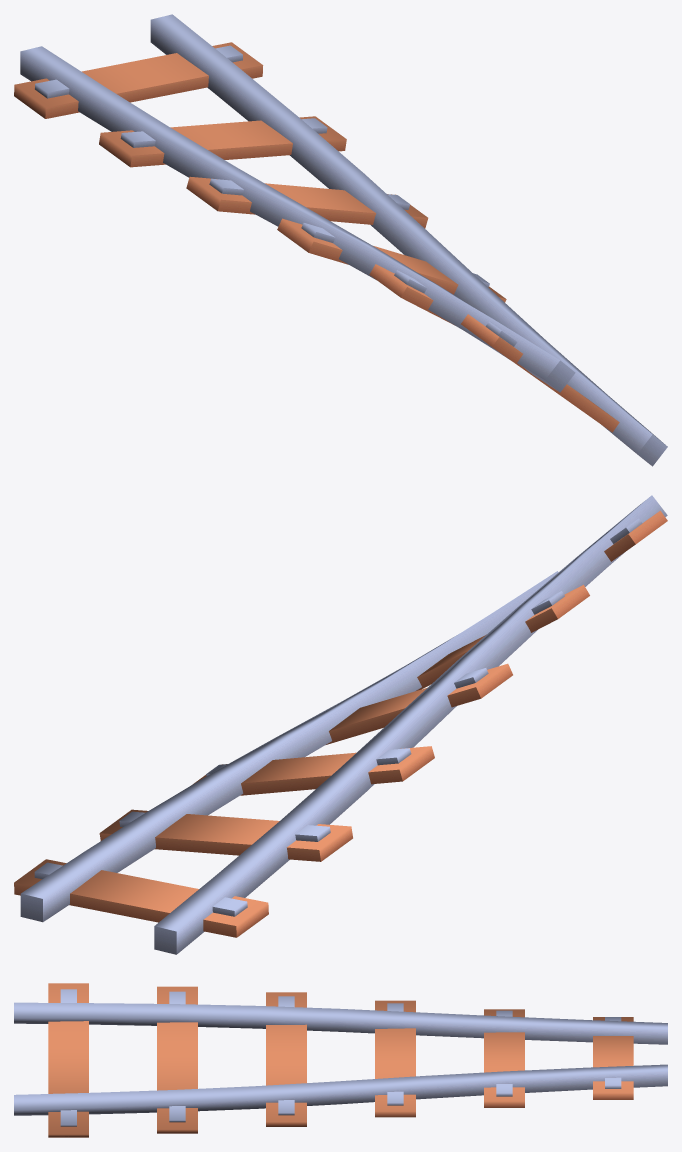
Rendered from kenney-train-railroad-straight-skew-left.glb.
The picture shows the model from 3 angles, top to bottom: view 1: azimuth 30°, elevation 25°; view 2: azimuth 150°, elevation 25°; view 3: azimuth 270°, elevation 25°; orthographic projection. The views are drawn at different scales.
Parts seen in each view (by area): view 1: railroad-straight-skew-left; view 2: railroad-straight-skew-left; view 3: railroad-straight-skew-left.
Boxes of the visible parts, x1,y1,x2,y2 form: railroad-straight-skew-left: [14, 14, 667, 466]; railroad-straight-skew-left: [14, 495, 667, 954]; railroad-straight-skew-left: [14, 983, 667, 1137].
Size of the model in its own units: 1 by 0.7105 by 4.
1 material, 1 textured.
